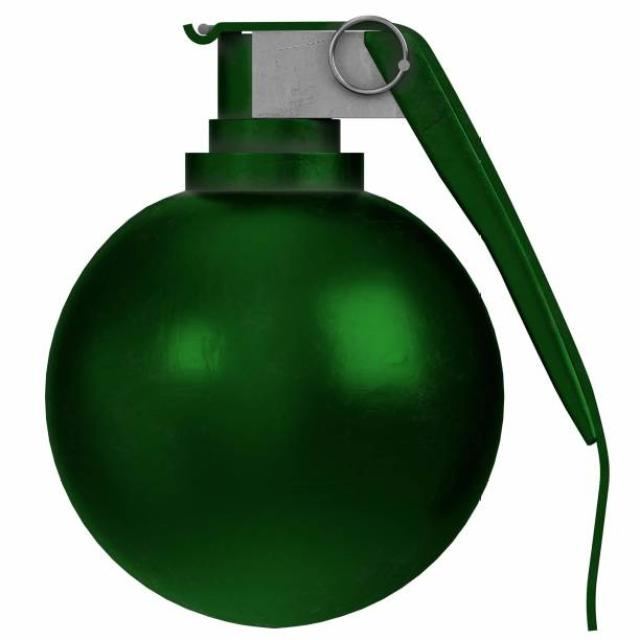grenade: (39, 12, 621, 635)
